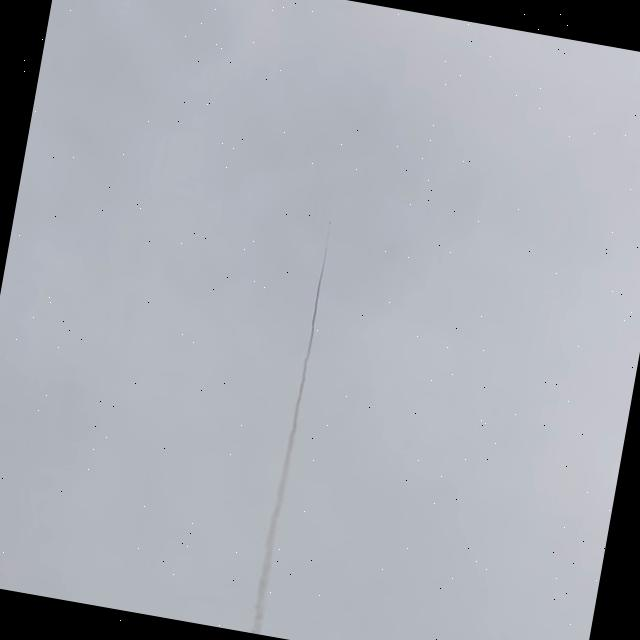smoke_trail_with_rocket: (250, 222, 330, 634)
